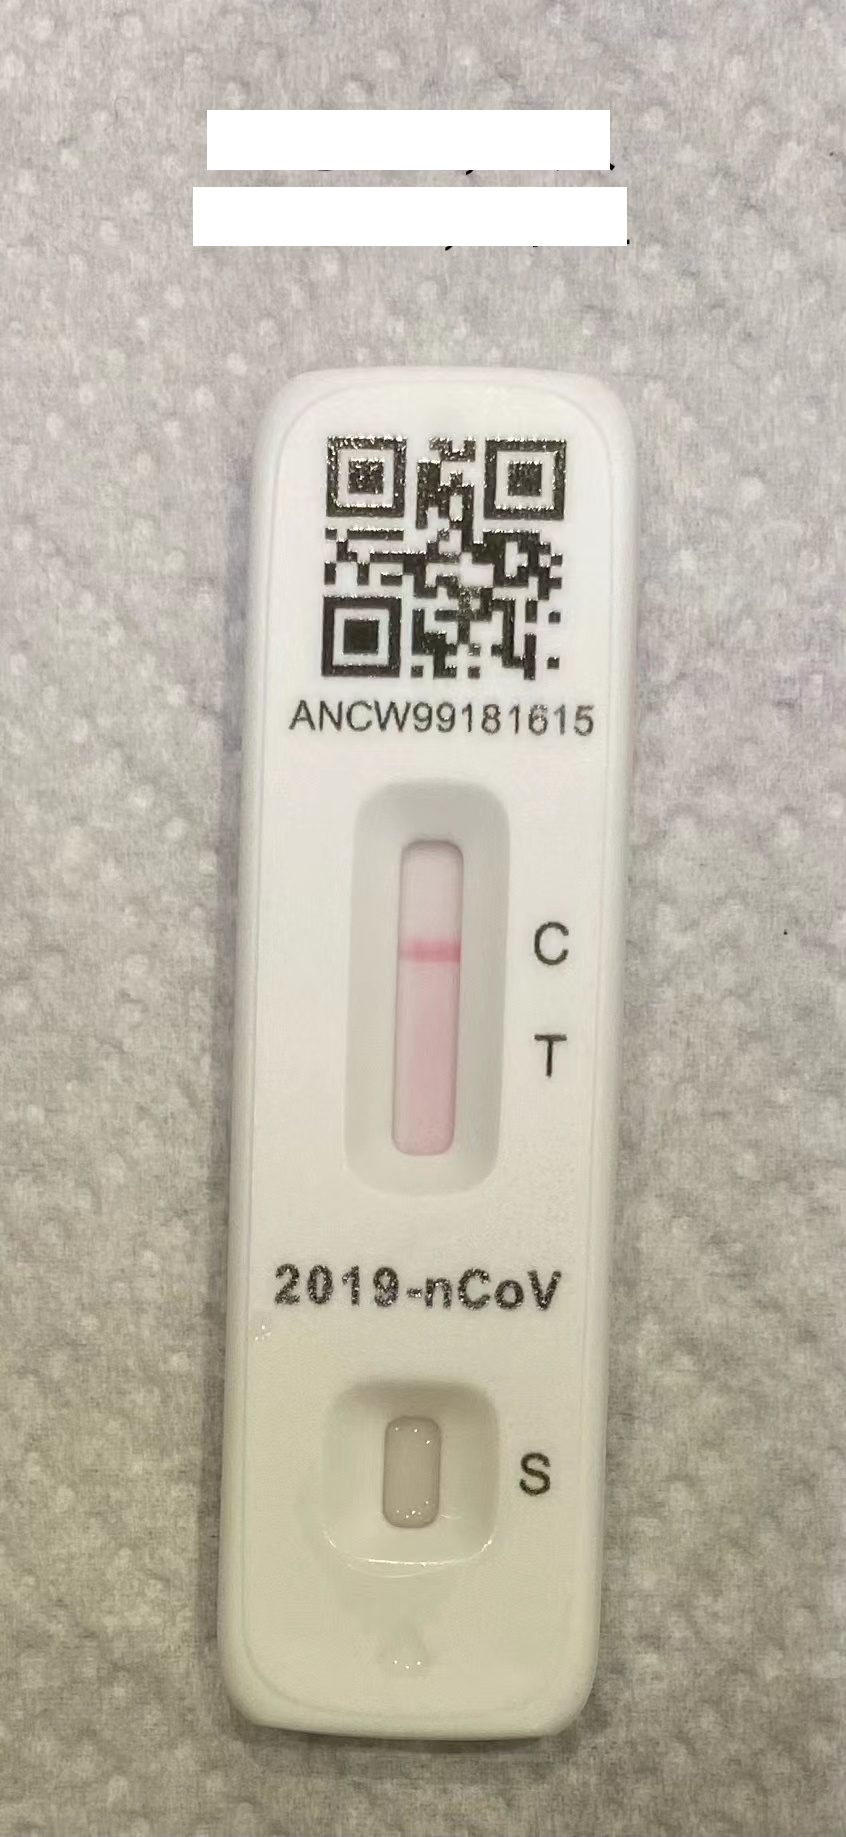negative: (360, 791, 499, 1225)
